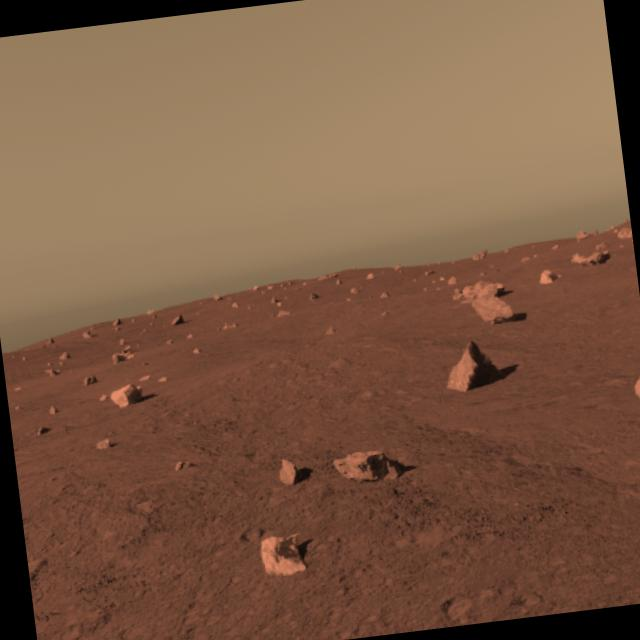rock: (434, 334, 511, 404), (324, 440, 408, 490), (467, 278, 525, 340), (254, 530, 314, 580)
